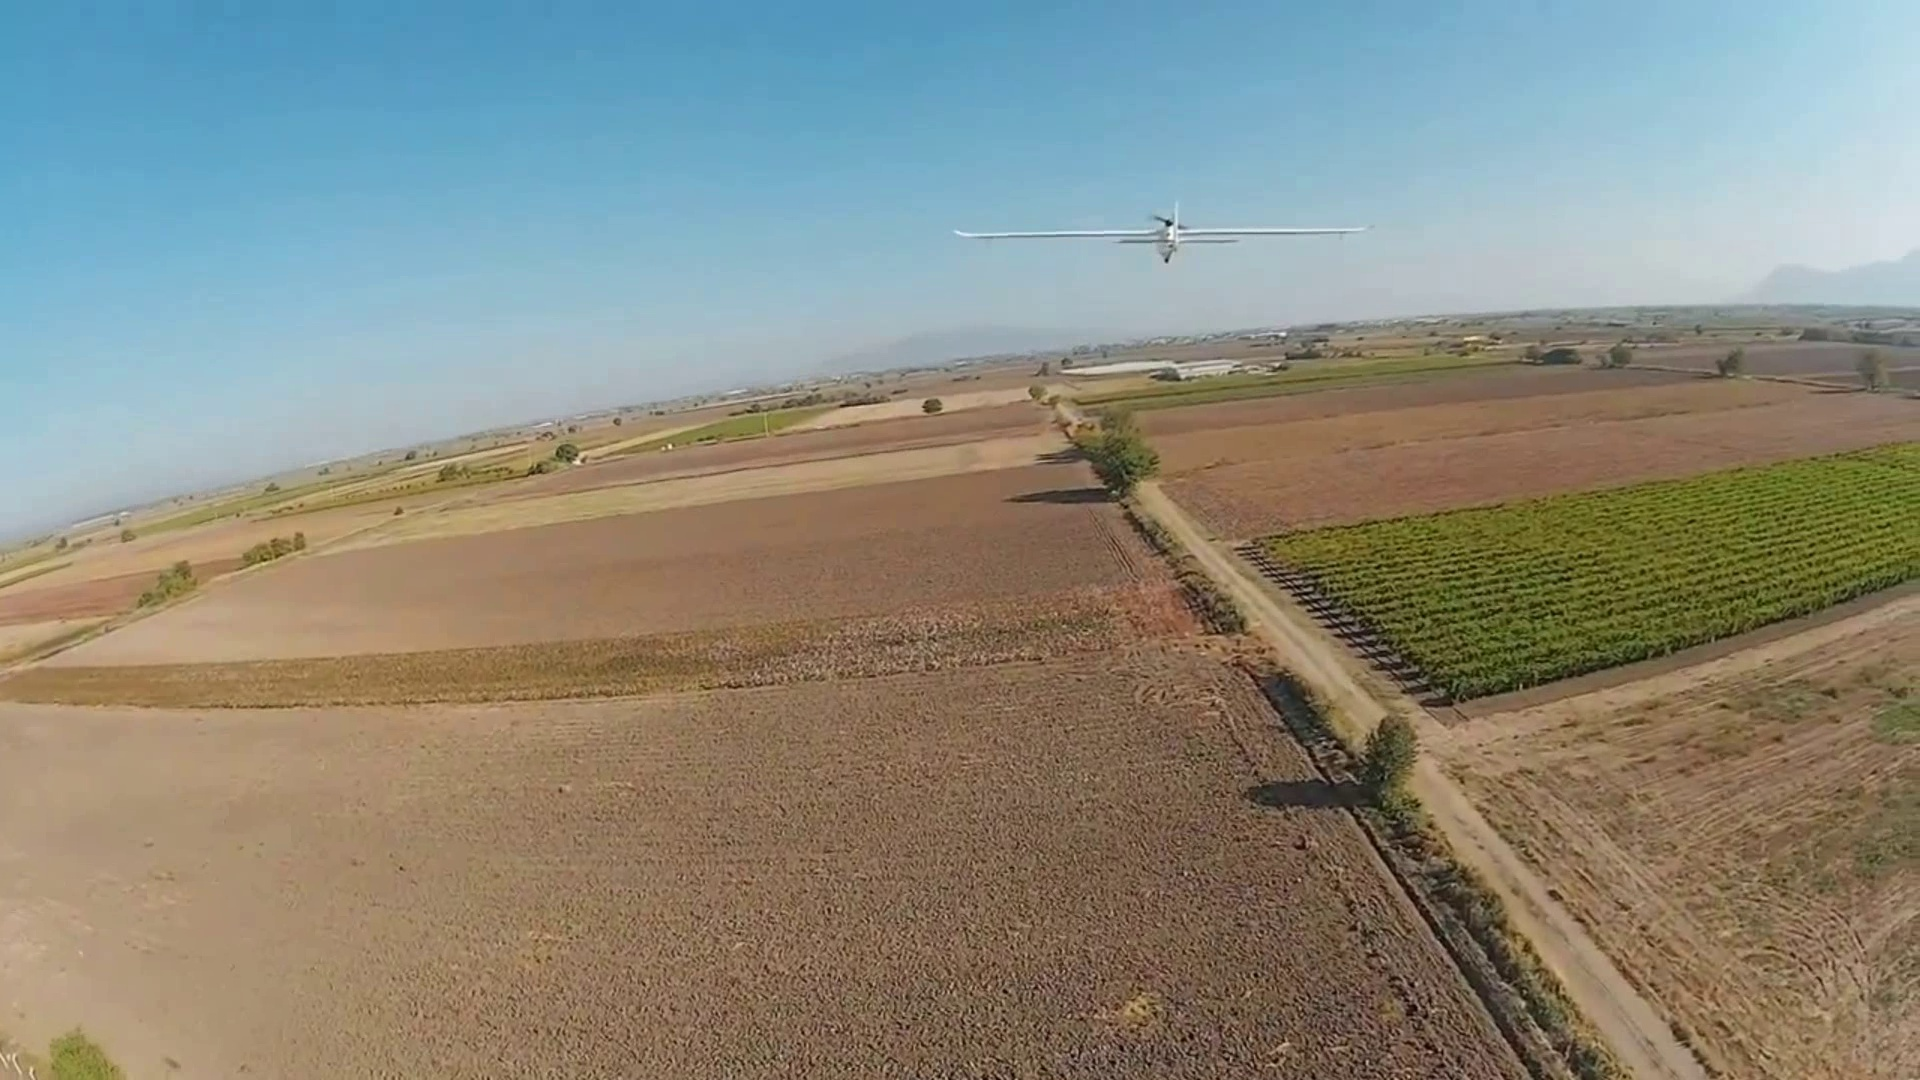airplane: (948, 206, 1367, 261)
